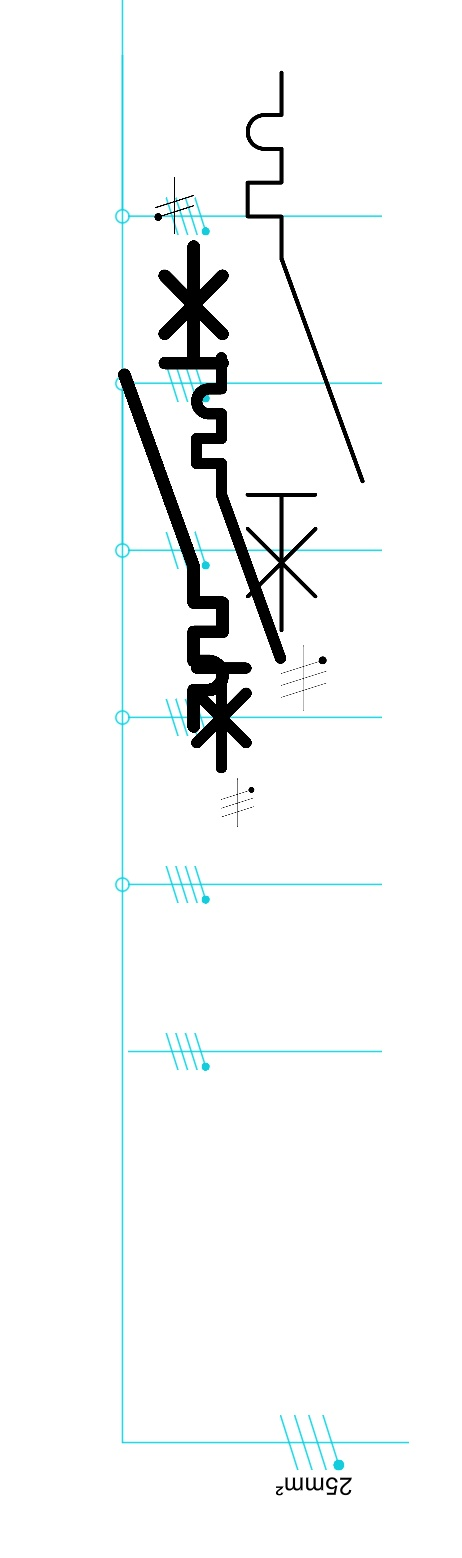interruptor_termomagnetico: (233, 58, 376, 644), (112, 234, 235, 739), (186, 347, 291, 778)
